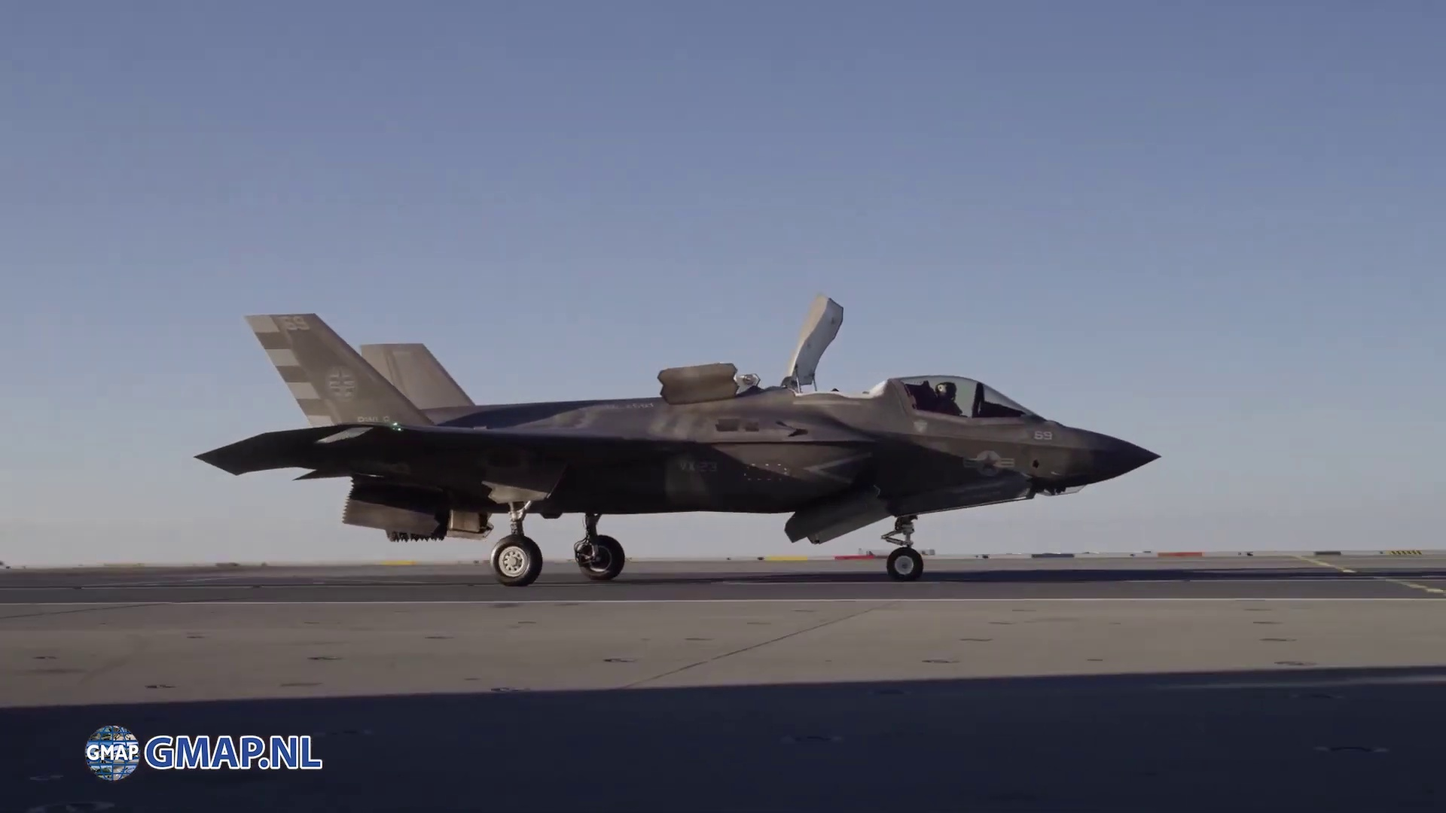F35: (190, 288, 1172, 600)
